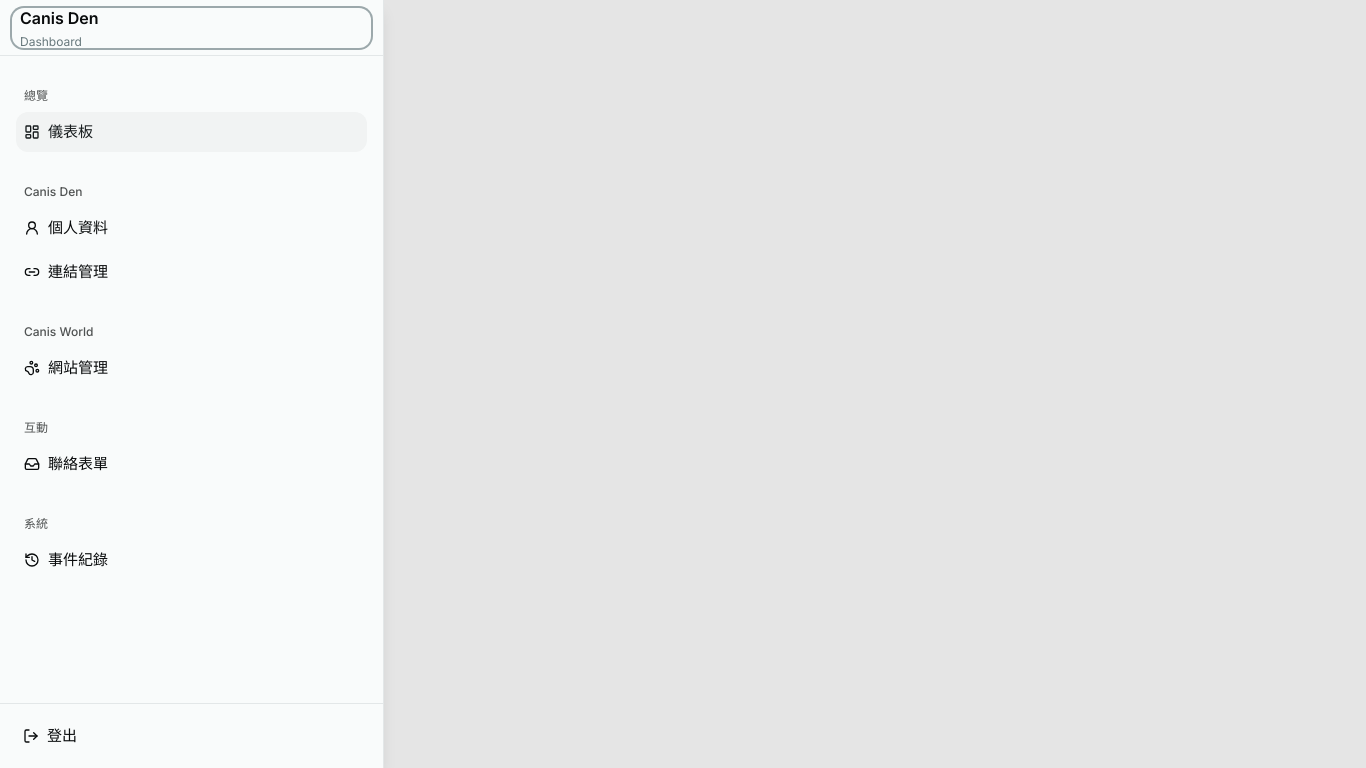
mobile sidebar logout › opens the confirmation after the mobile sheet closes
Click the button "登出" at point(62, 736), box x1=12 y1=716 x2=371 y2=756
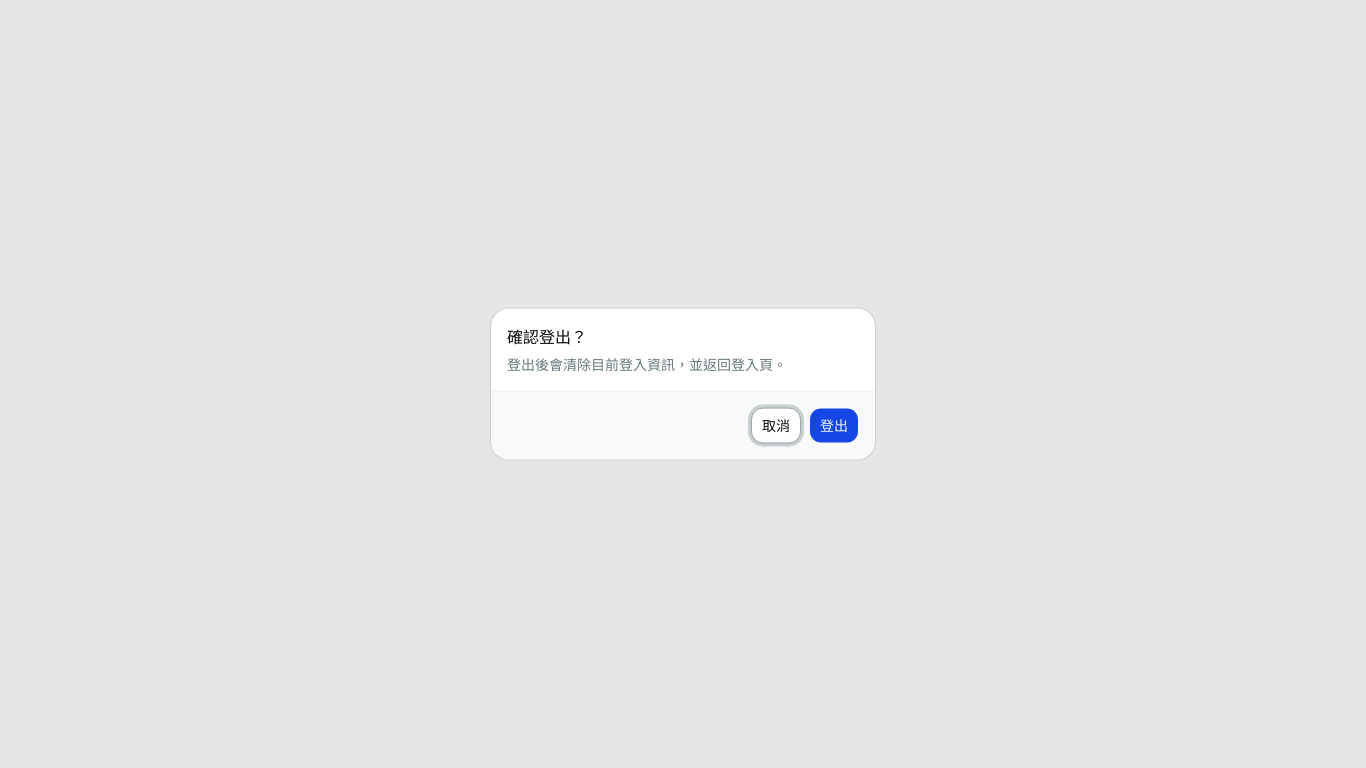
Expected: the dialog is shown, x1=491 y1=308 x2=875 y2=460
Expected: the heading "確認登出？" is shown, x1=507 y1=324 x2=587 y2=348
